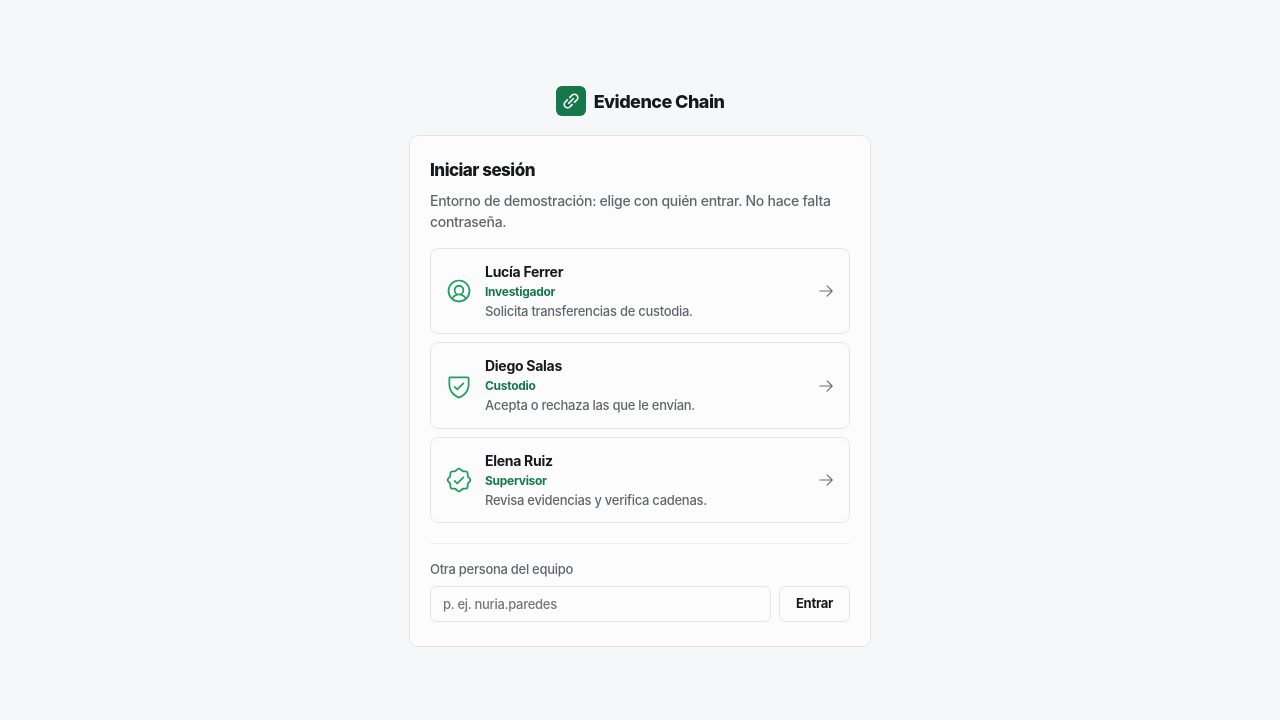
Test: routes and sign-in › keeps the chosen persona busy, and does not sign in twice, until the next page has loaded
Click the button "Diego Salas Custodio Acepta o rechaza las que le envían.". click: (523, 366)
box: [430, 342, 850, 429]
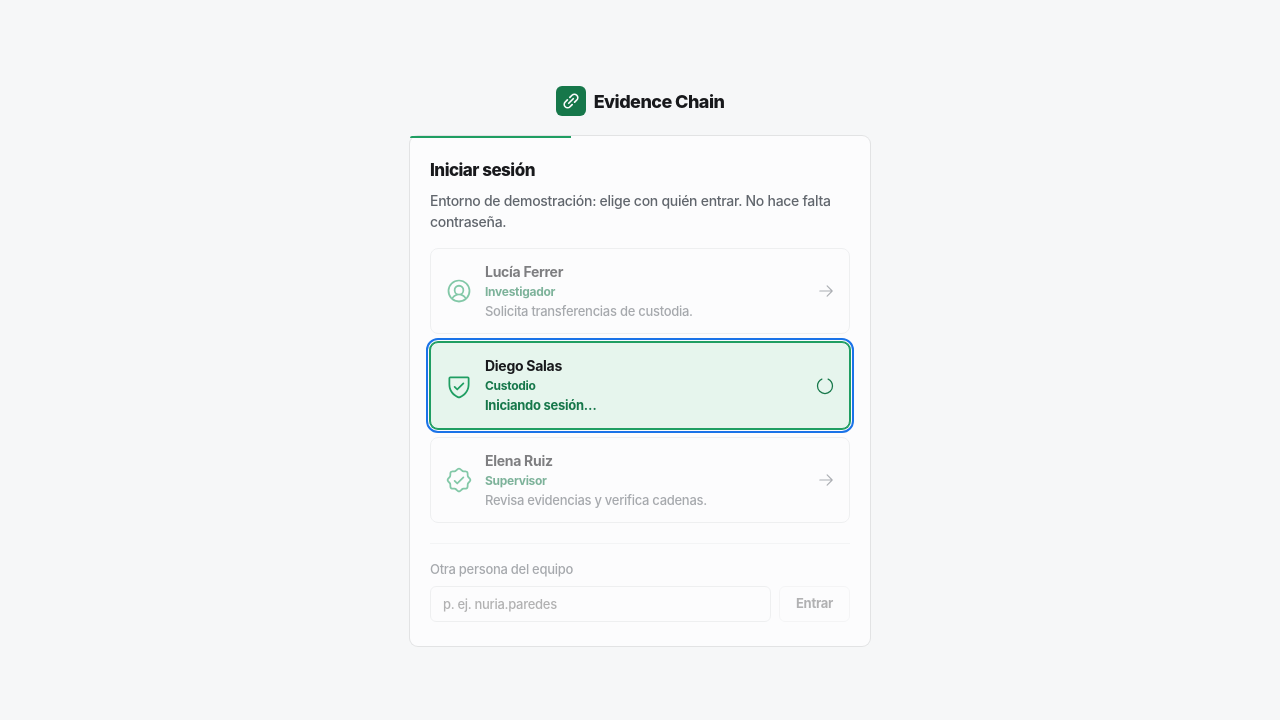
expect the button "Diego Salas Custodio Iniciando sesión…" is shown: met
expect the button "Lucía Ferrer" is disabled: met, box [430, 248, 850, 334]
Click the button "Diego Salas Custodio Iniciando sesión…". click: (523, 366)
box: [430, 342, 850, 429]
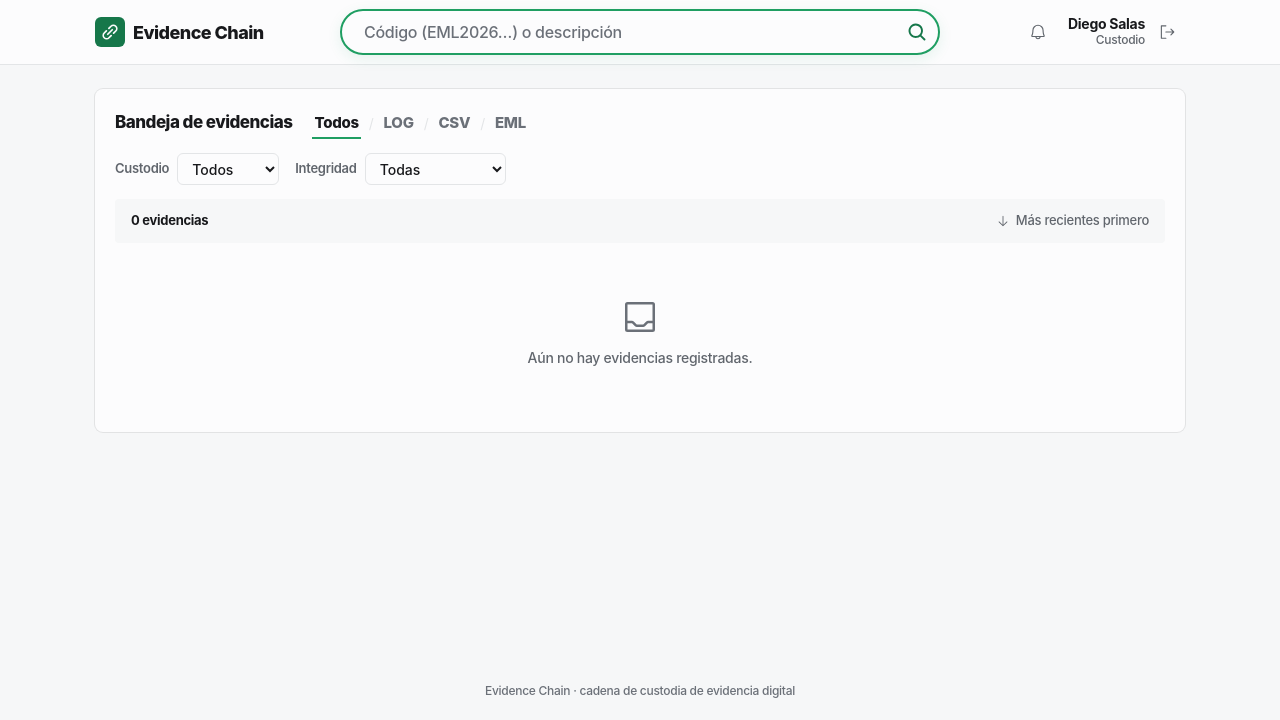
expect the heading "Bandeja de evidencias" is shown: met, box [115, 110, 292, 136]
